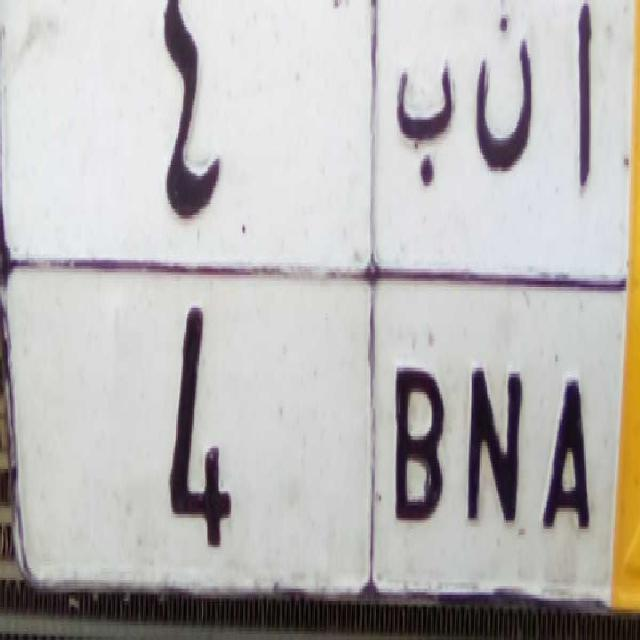license_plate: (4, 261, 620, 631)
